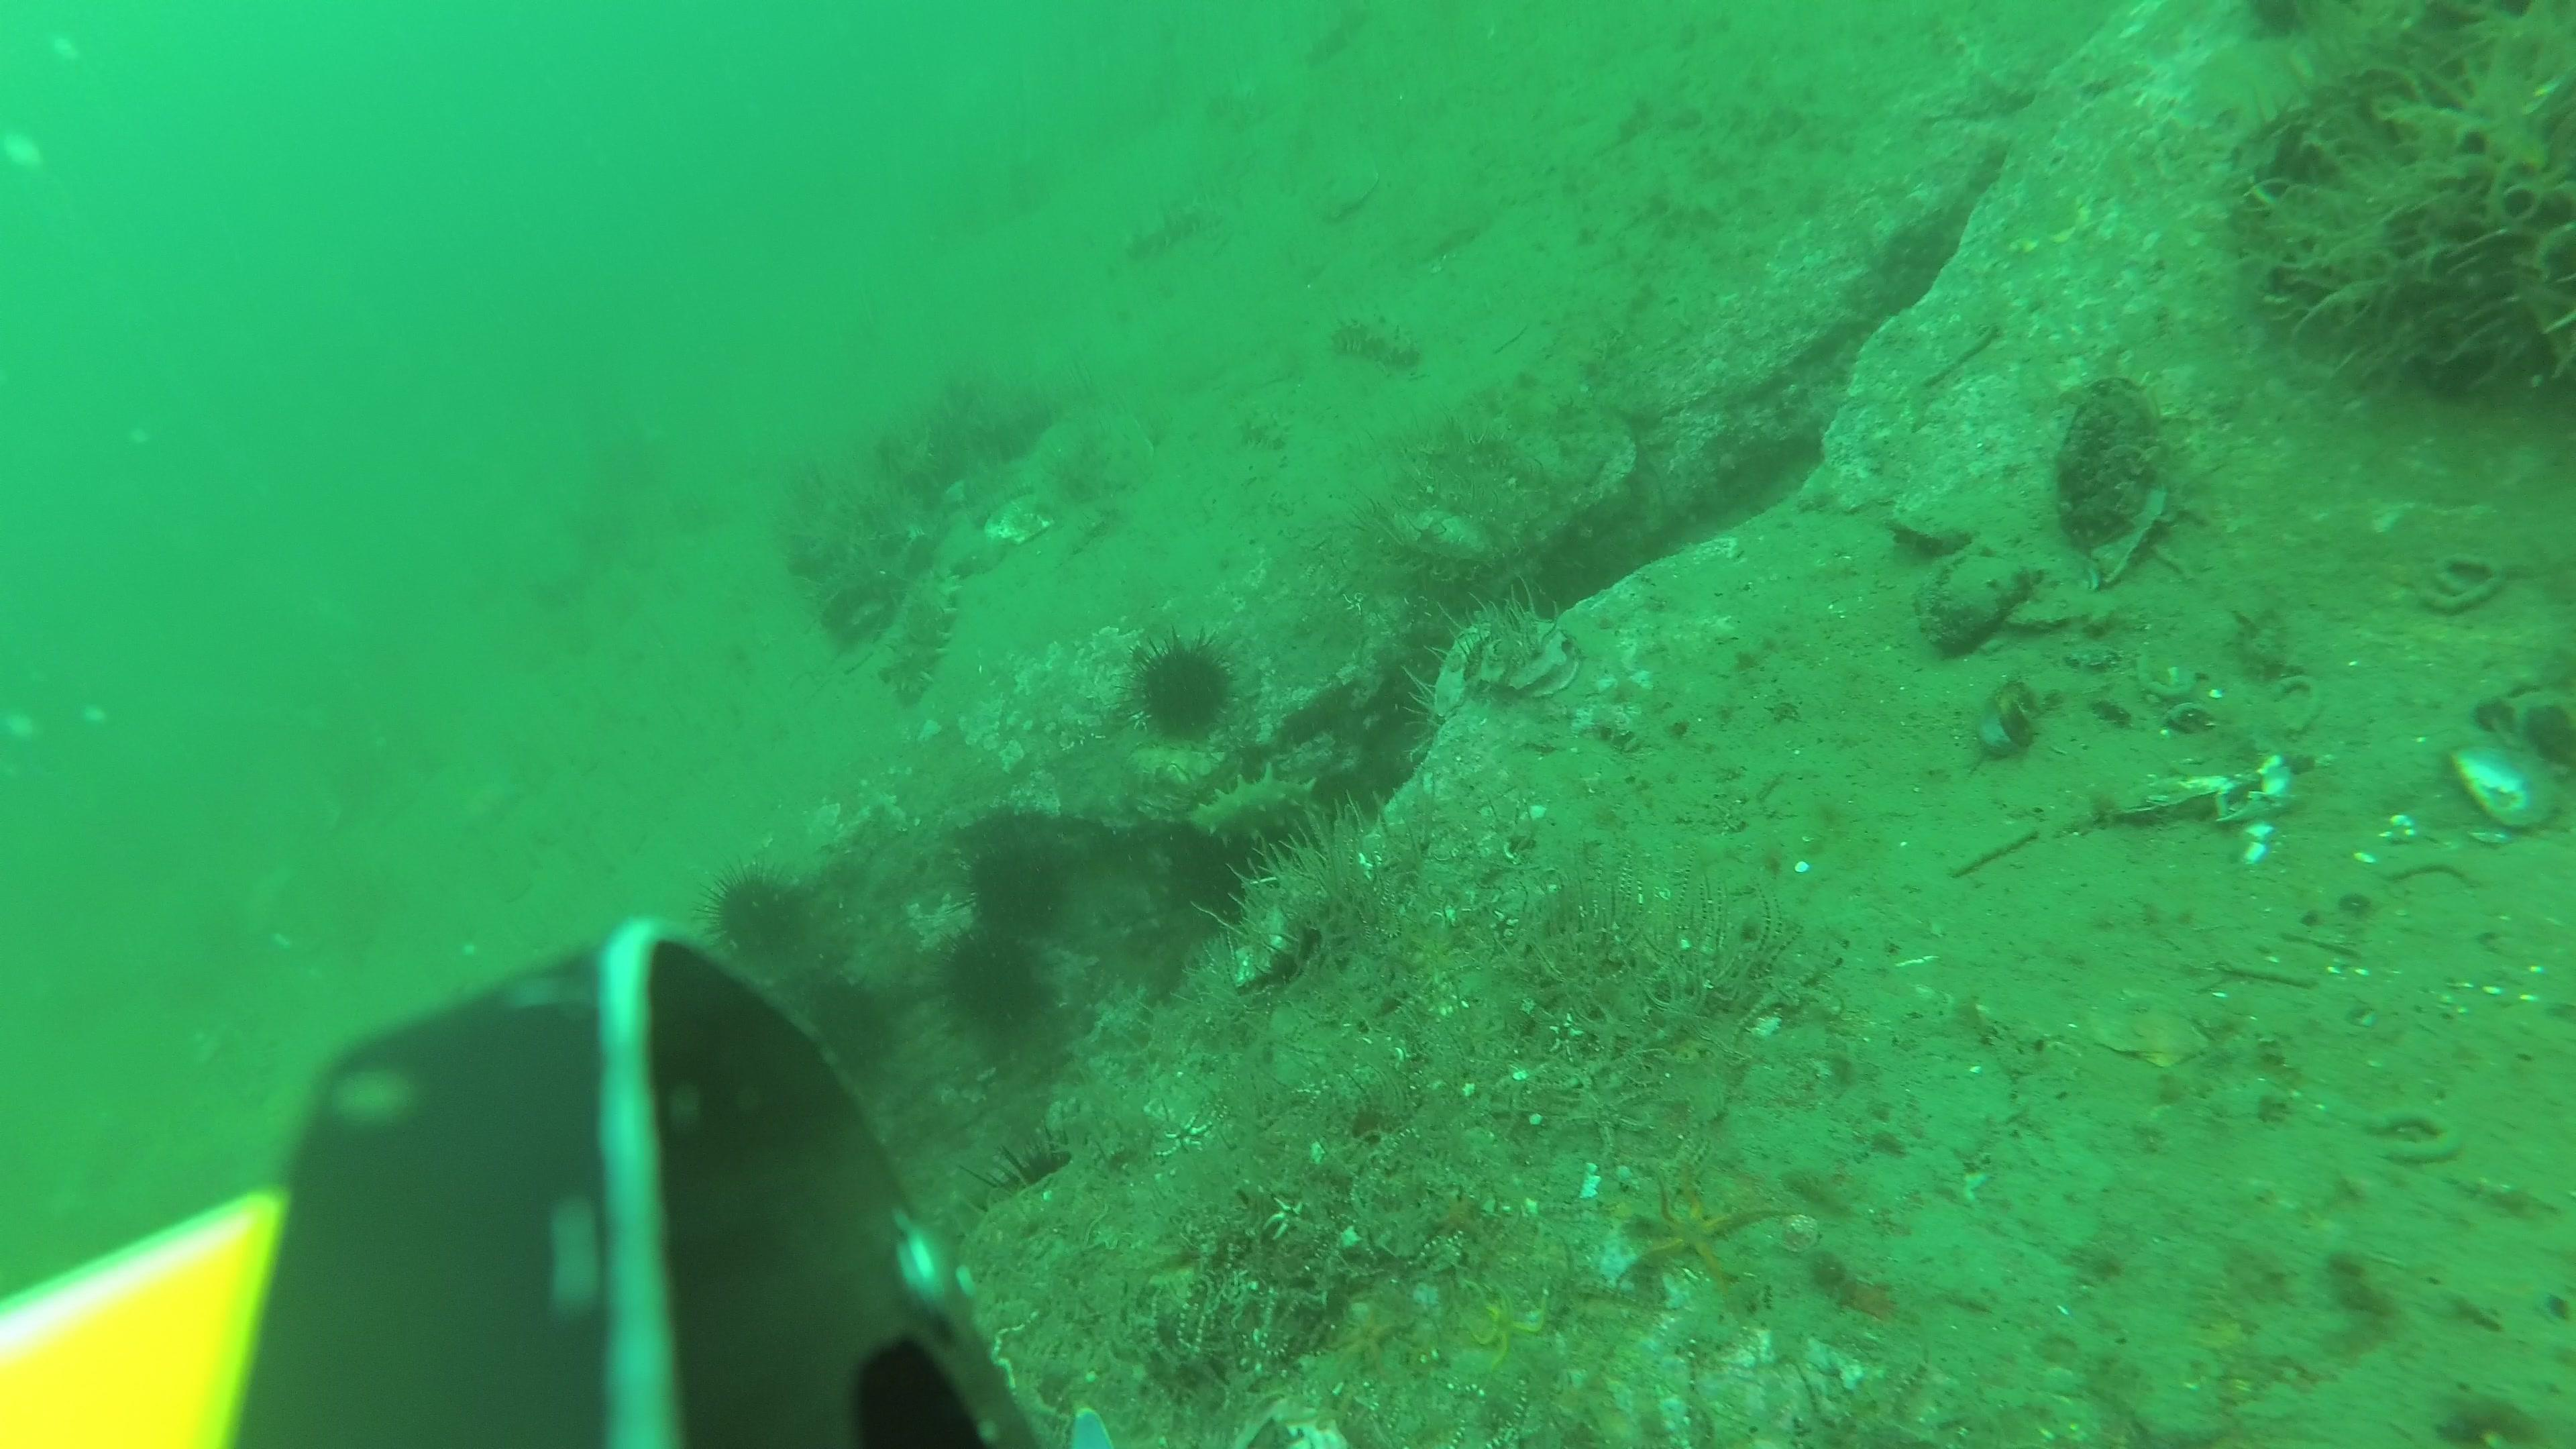echinus: (941, 922, 1047, 1040), (1132, 635, 1240, 750), (706, 858, 816, 970), (993, 1127, 1099, 1240), (968, 821, 1067, 938), (1173, 826, 1272, 916), (801, 984, 892, 1079)
holothurian: (1198, 766, 1341, 863), (885, 568, 961, 706), (1330, 311, 1422, 372), (1129, 200, 1219, 258), (1302, 4, 1362, 74), (1207, 83, 1263, 138), (1238, 409, 1290, 453)
scallop: (2093, 985, 2208, 1070), (980, 497, 1054, 550), (1322, 165, 1380, 226)
starfish: (1651, 1162, 1775, 1281), (1460, 1277, 1552, 1369), (1338, 1307, 1414, 1375)
